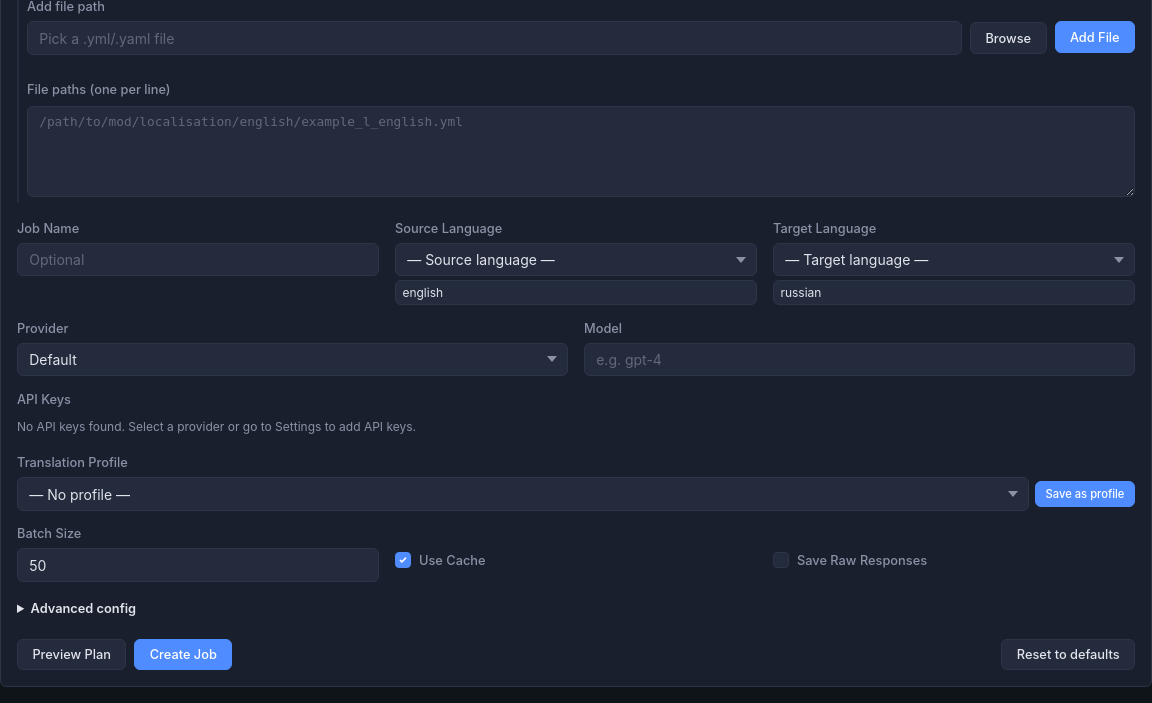
CreateJobForm › advanced config section › renders validator dropdown with options
(page scrolled)
Click the heading "Advanced config" at (83, 609), box [30,601,136,616]
(page scrolled)
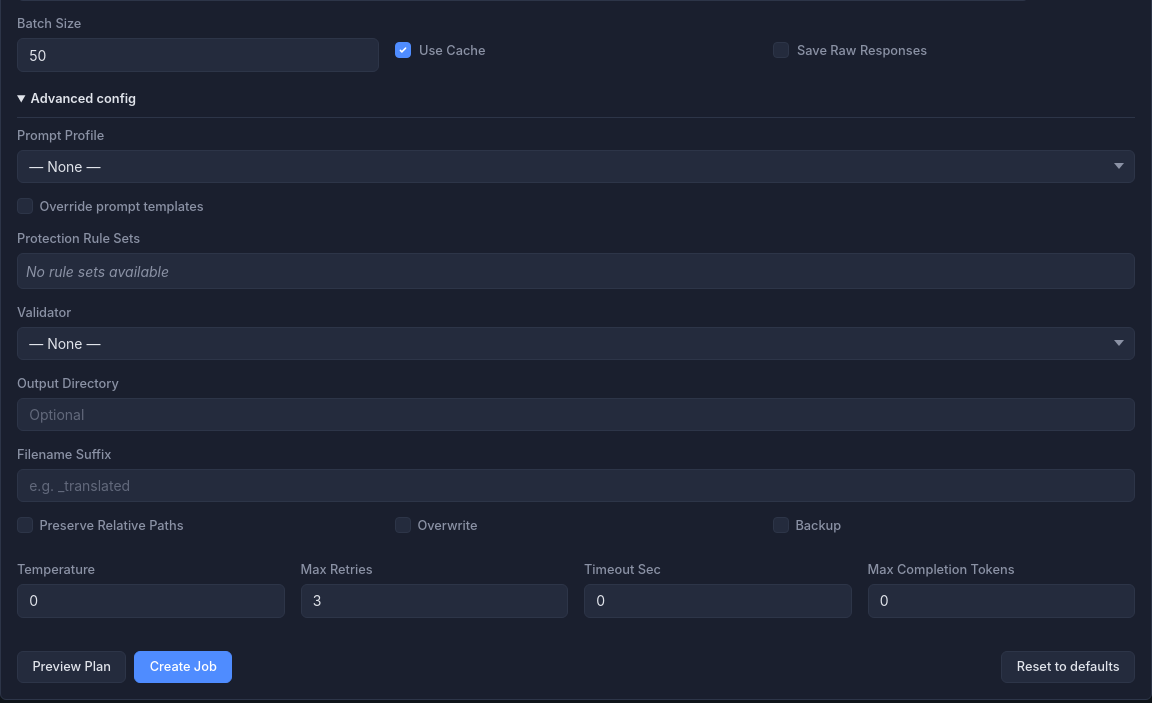
Check: the dropdown below "Validator" is shown, box [17,327,1135,360]
